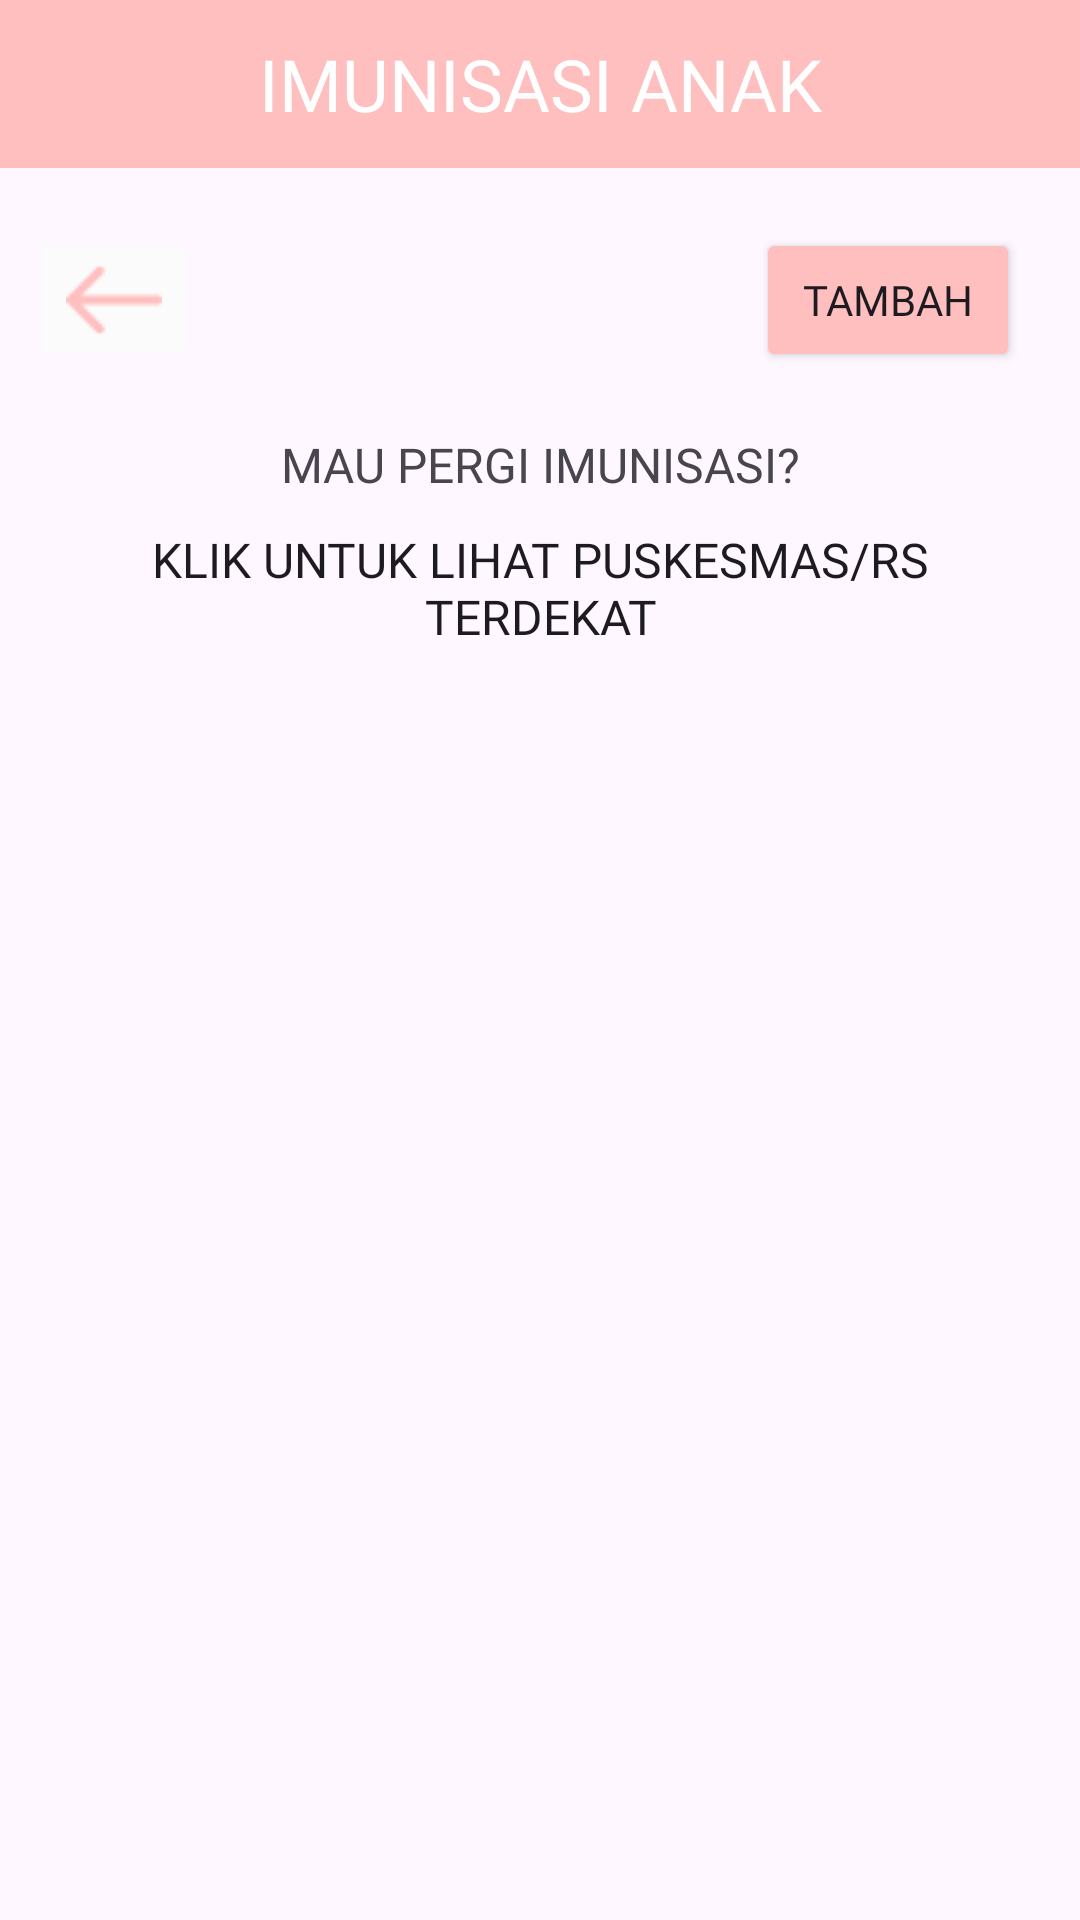

Screen size 1080px x 1920px. Icon name, then its center in pixels as (x,y):
Back: (114,300)
